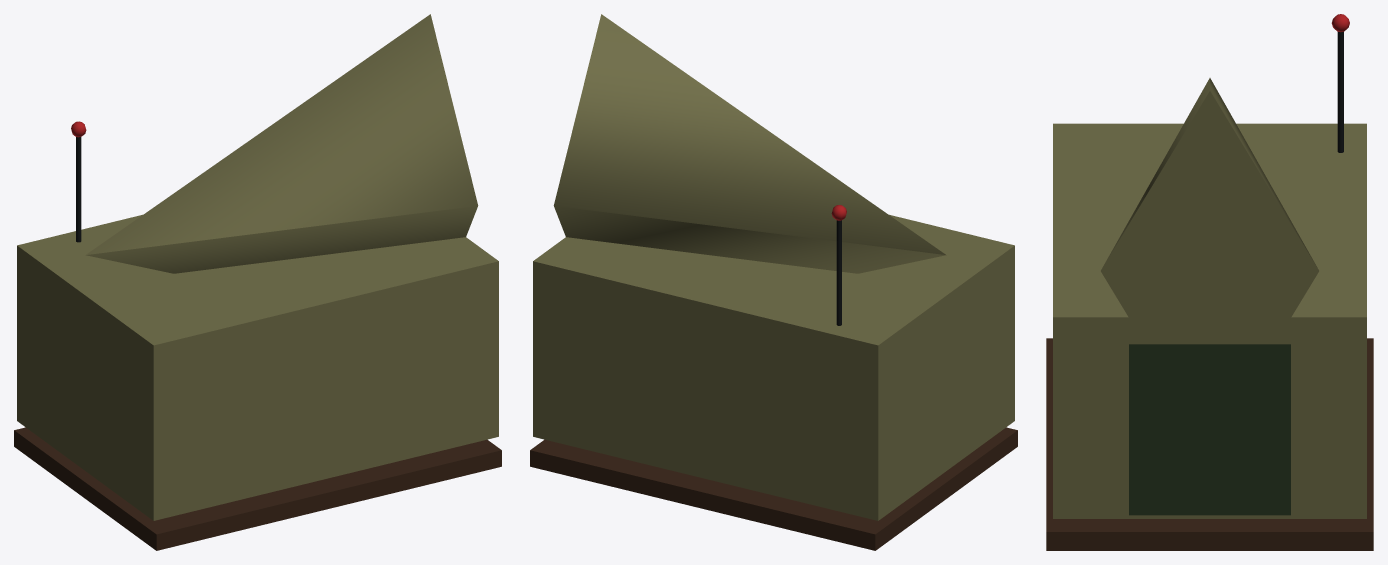
Rendered from command-tent.glb.
3 renders of one model, left to right at view 1: azimuth 30°, elevation 25°; view 2: azimuth 150°, elevation 25°; view 3: azimuth 270°, elevation 25°, orthographic. The views are drawn at different scales.
Visible parts, largest first — view 1: canvasBody, ridgeRoof, floor, radioAntenna; view 2: canvasBody, ridgeRoof, floor, radioAntenna; view 3: canvasBody, ridgeRoof, frontFlap, floor, radioAntenna.
Boxes of the visible parts, box(x1,y1,x2,y2) form: canvasBody: box(17, 214, 498, 520); ridgeRoof: box(85, 14, 478, 273); floor: box(14, 427, 501, 550); radioAntenna: box(76, 137, 81, 242); canvasBody: box(533, 214, 1014, 520); ridgeRoof: box(553, 14, 946, 273); floor: box(530, 427, 1017, 550); radioAntenna: box(836, 220, 841, 325); canvasBody: box(1053, 123, 1366, 518); ridgeRoof: box(1101, 78, 1318, 342); frontFlap: box(1129, 344, 1290, 515); floor: box(1046, 338, 1373, 550); radioAntenna: box(1337, 31, 1343, 152).
Size of the model in its own units: 1.77 by 1.94 by 1.25.
